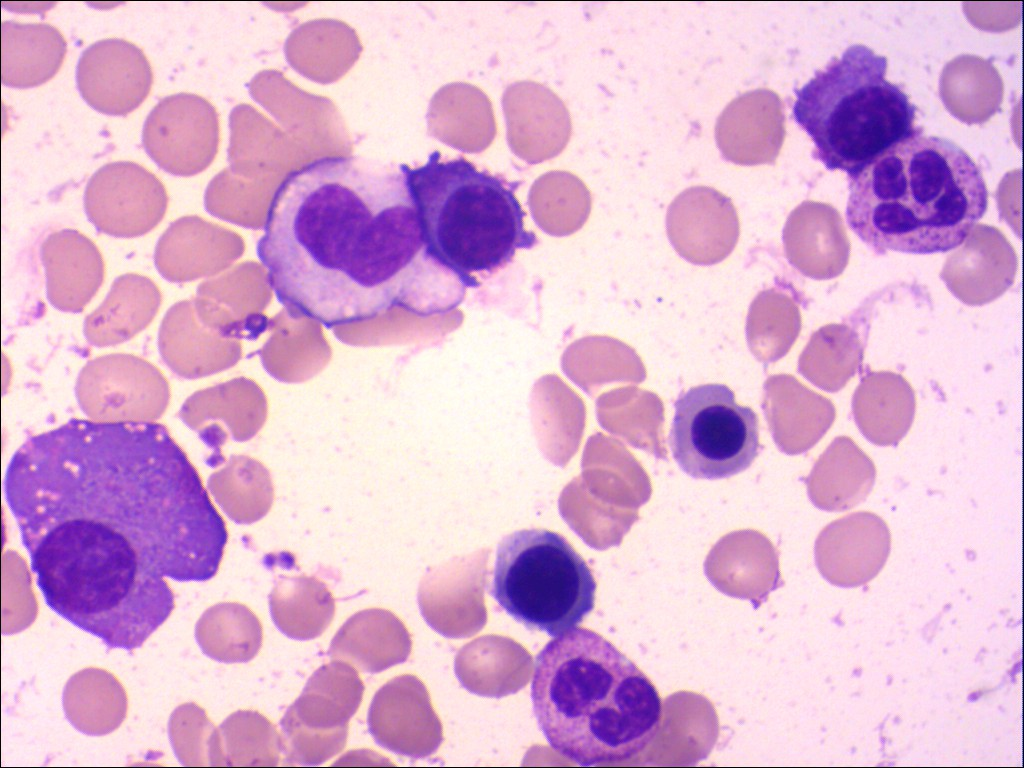23: (489, 524, 598, 639)
24: (667, 382, 763, 483)
42: (254, 154, 470, 329)
51: (1, 414, 230, 654), (402, 148, 545, 290), (789, 42, 928, 179)
6: (844, 132, 991, 257)
x: (530, 625, 665, 768)
